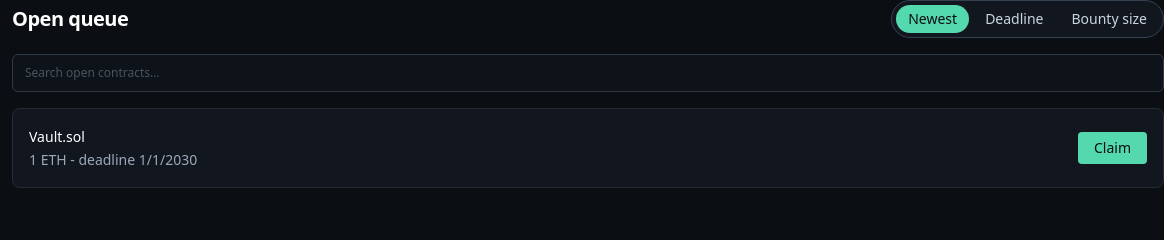
Scenario: QueueList claim errors › still reports a contract someone else claimed
The image size is (1164, 240).
Click the button "Claim": (1112, 148) [1078,132,1147,164]
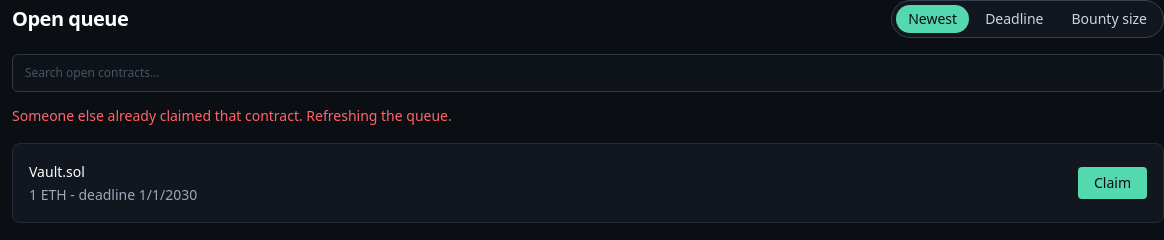
Result: the text "Someone else already claimed that contract" is shown at [12,106,452,125]
